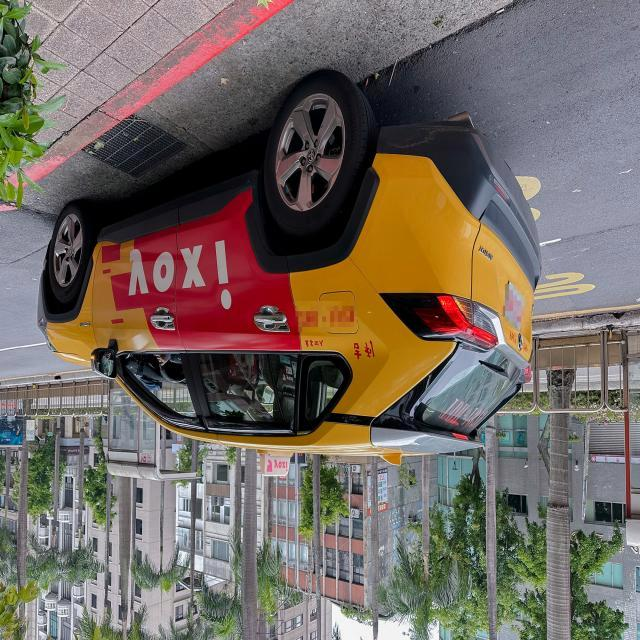taxi: (41, 36, 568, 498)
